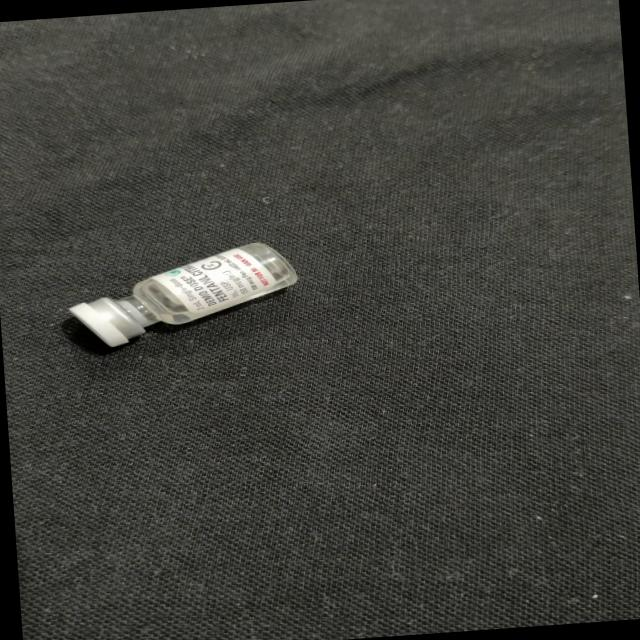fentanl_citrat: (67, 240, 297, 348)
